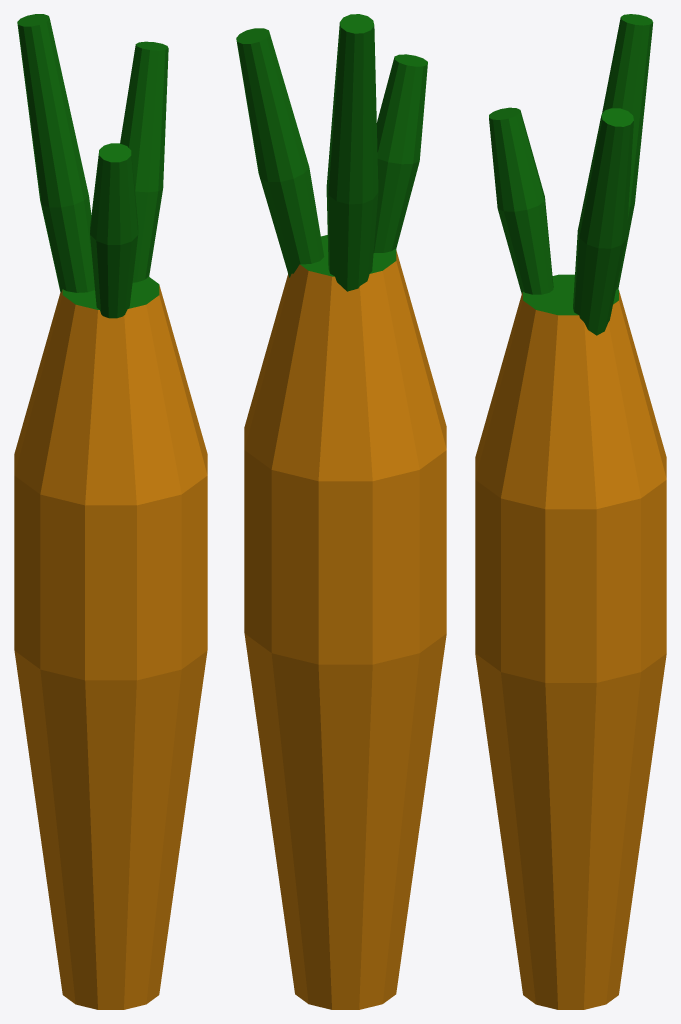
The model's file is carrot.fbx.
3 renders of one model, left to right at view 1: azimuth 30°, elevation 25°; view 2: azimuth 150°, elevation 25°; view 3: azimuth 270°, elevation 25°, orthographic. The views are drawn at different scales.
Visible parts, largest first — view 1: cylinder, cylinder_1, cylinder_2, cylinder_5, cylinder_4, cylinder_3; view 2: cylinder, cylinder_1, cylinder_2, cylinder_5, cylinder_4, cylinder_3; view 3: cylinder, cylinder_1, cylinder_2, cylinder_4, cylinder_3, cylinder_5.
Part boxes in pixels (left/top/right/bottom): cylinder: left=14, top=651, right=207, bottom=1009; cylinder_1: left=14, top=476, right=207, bottom=680; cylinder_2: left=14, top=276, right=207, bottom=505; cylinder_5: left=17, top=14, right=94, bottom=292; cylinder_4: left=120, top=41, right=168, bottom=282; cylinder_3: left=90, top=143, right=138, bottom=318; cylinder: left=244, top=633, right=446, bottom=1009; cylinder_1: left=244, top=450, right=446, bottom=664; cylinder_2: left=244, top=235, right=446, bottom=481; cylinder_5: left=326, top=14, right=378, bottom=291; cylinder_4: left=236, top=28, right=324, bottom=277; cylinder_3: left=373, top=54, right=427, bottom=252; cylinder: left=475, top=653, right=666, bottom=1009; cylinder_1: left=475, top=480, right=666, bottom=682; cylinder_2: left=475, top=274, right=666, bottom=509; cylinder_4: left=573, top=108, right=633, bottom=335; cylinder_3: left=489, top=107, right=553, bottom=294; cylinder_5: left=602, top=14, right=653, bottom=289.
Bounding box in the file's own units: 12.5 × 68.46 × 12.5.
Materials: 2 (2 with a texture image).
